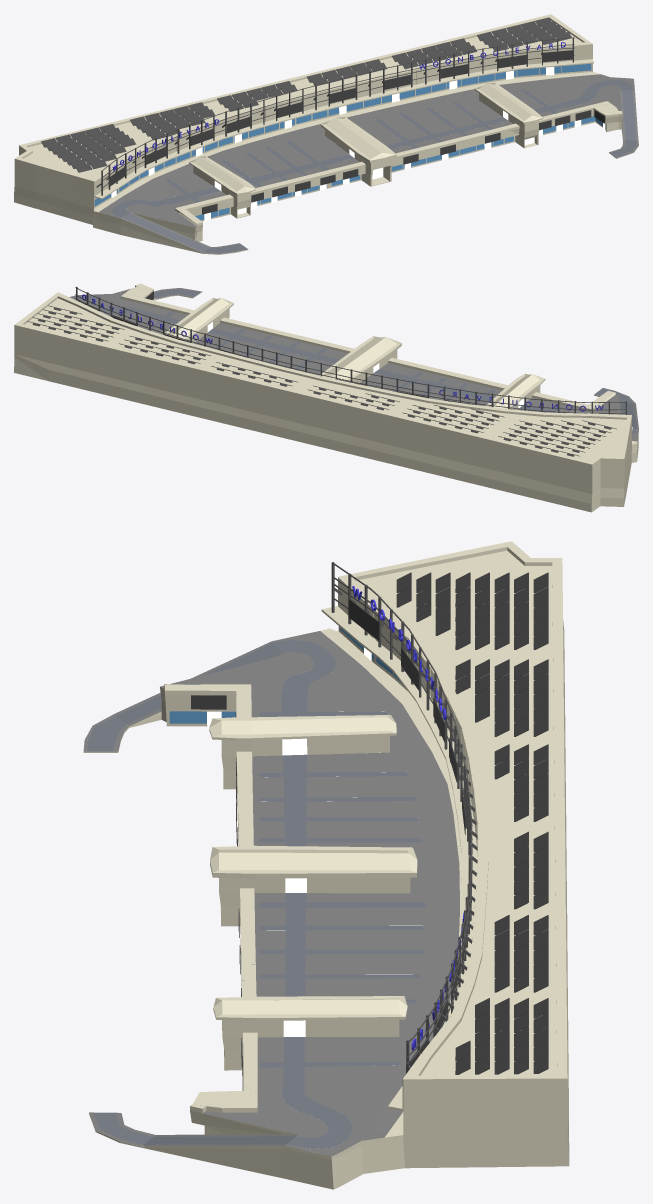
Rendered from plein3.glb.
The picture shows the model from 3 angles, top to bottom: view 1: azimuth 30°, elevation 25°; view 2: azimuth 150°, elevation 25°; view 3: azimuth 270°, elevation 25°; orthographic projection. The views are drawn at different scales.
Parts seen in each view (by area): view 1: 548211239.003; view 2: 548211239.003; view 3: 548211239.003.
Part boxes in pixels (x1,y1,x2,y2): 548211239.003: [14, 14, 638, 254]; 548211239.003: [14, 283, 638, 512]; 548211239.003: [83, 541, 569, 1189].
Bounding box in the file's own units: 1494 × 136 × 547.
